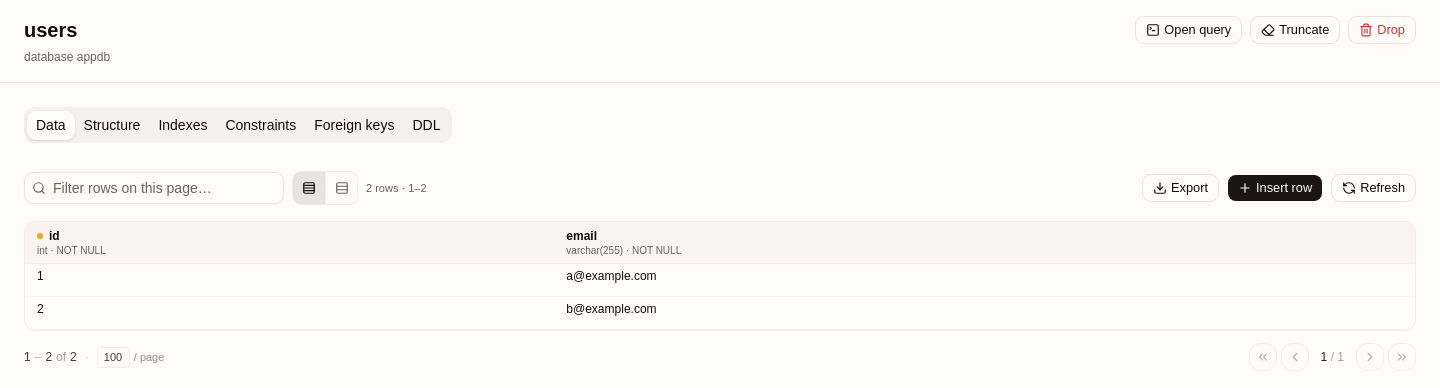
Test: mysql TableDetailClient (characterization) › Retry recovers after a later load fails, not just the first one
Expected: the text "a@example.com" is shown, top-left (554, 264), bottom-right (1347, 297)
Click the button "Refresh": click(1374, 188) top-left (1331, 174), bottom-right (1416, 202)
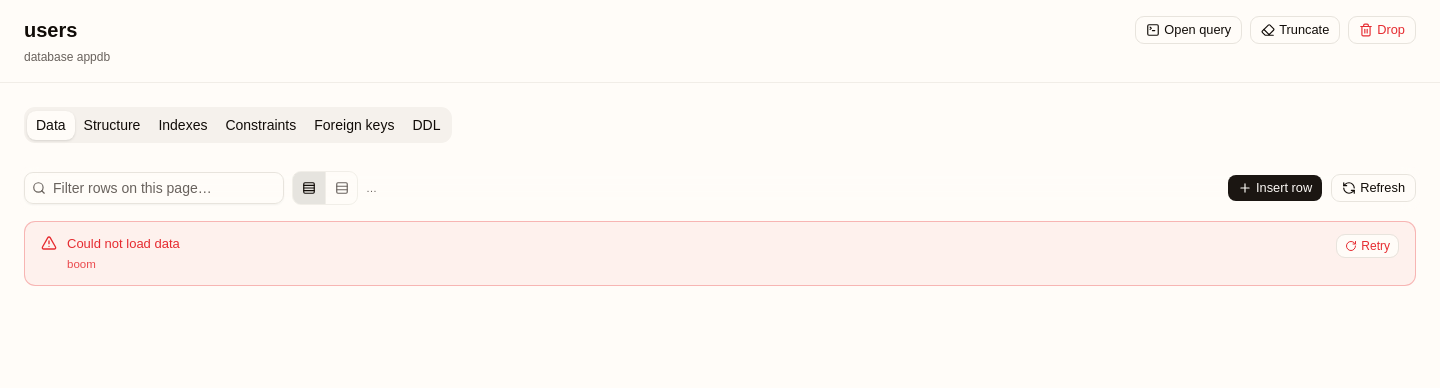
Result: the message "Could not load data boom Retry" is shown at top-left (24, 221), bottom-right (1416, 286)
Click the button "Retry": click(1368, 246) top-left (1336, 234), bottom-right (1399, 258)
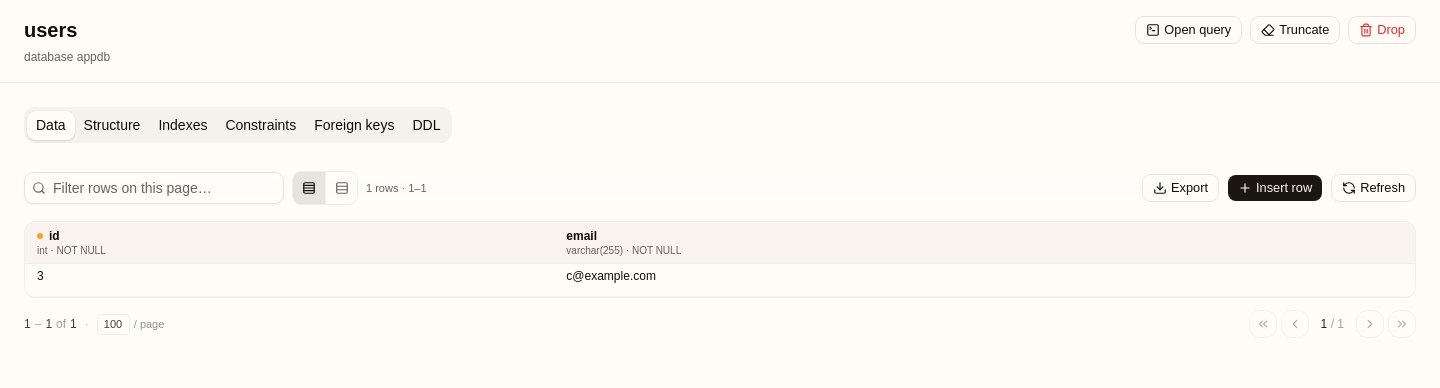
Result: the text "c@example.com" is shown at top-left (554, 264), bottom-right (1347, 297)
